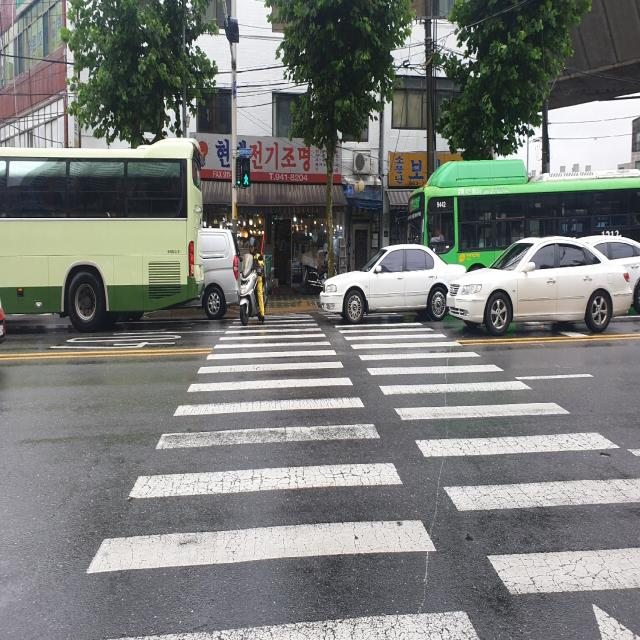car: (2, 146, 213, 340), (441, 240, 632, 338), (319, 246, 471, 325), (197, 232, 239, 322)
motorbike: (237, 253, 265, 325)
